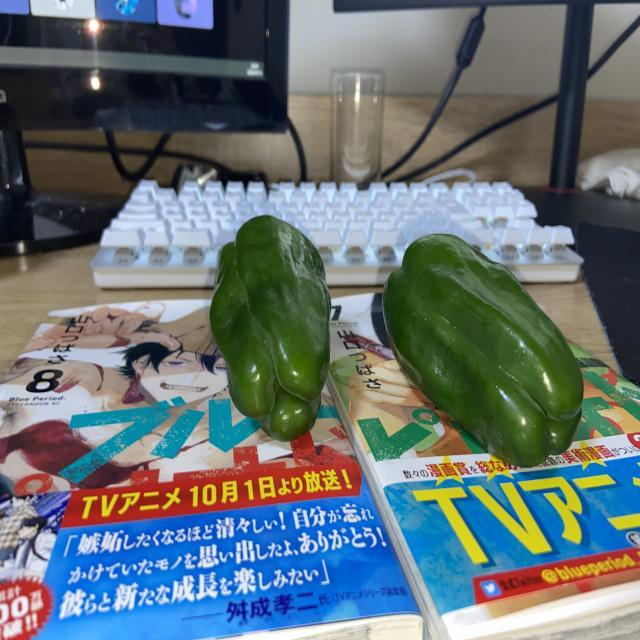green_pepper: (384, 233, 587, 470), (212, 216, 334, 442)
